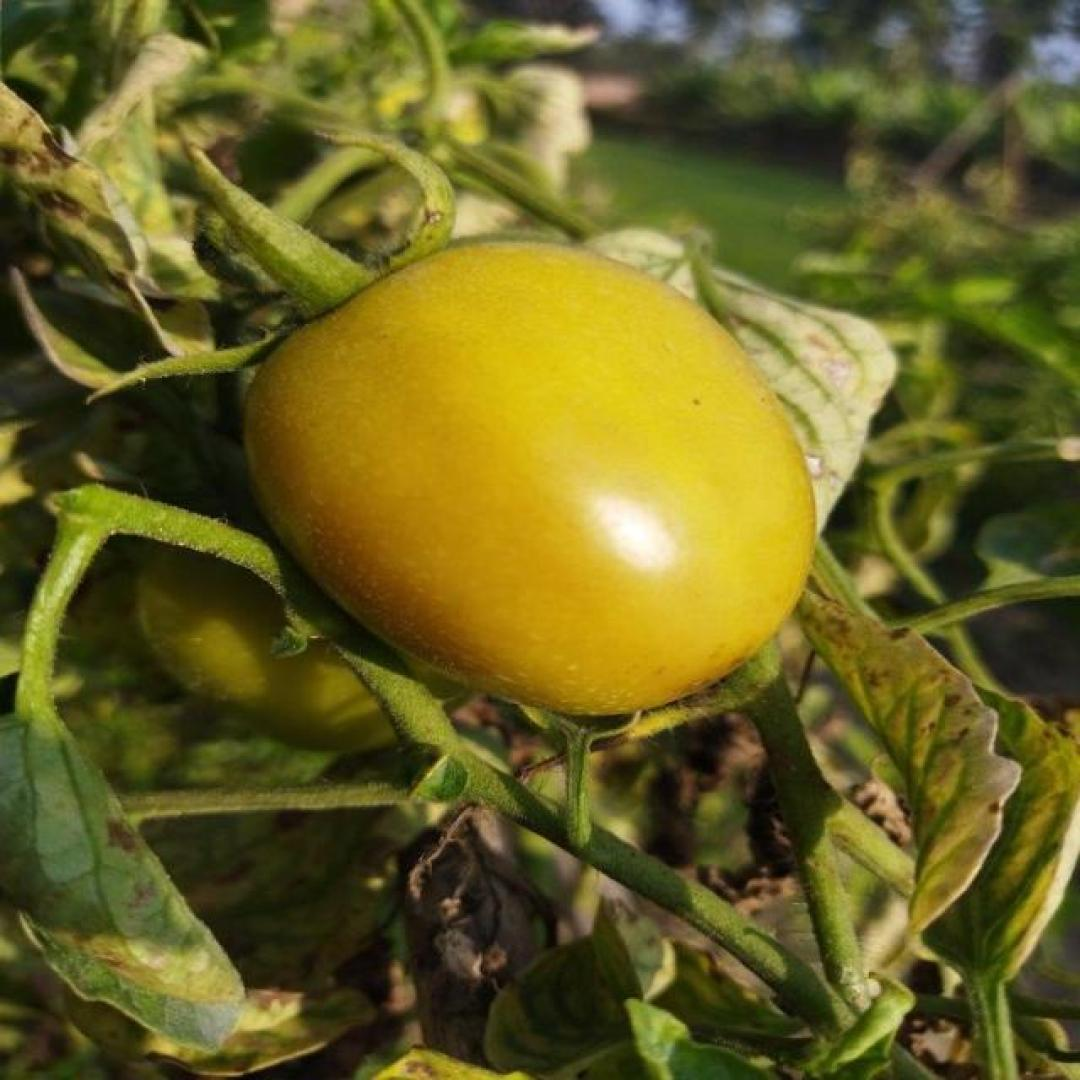setengah_matang: (243, 238, 825, 717)
